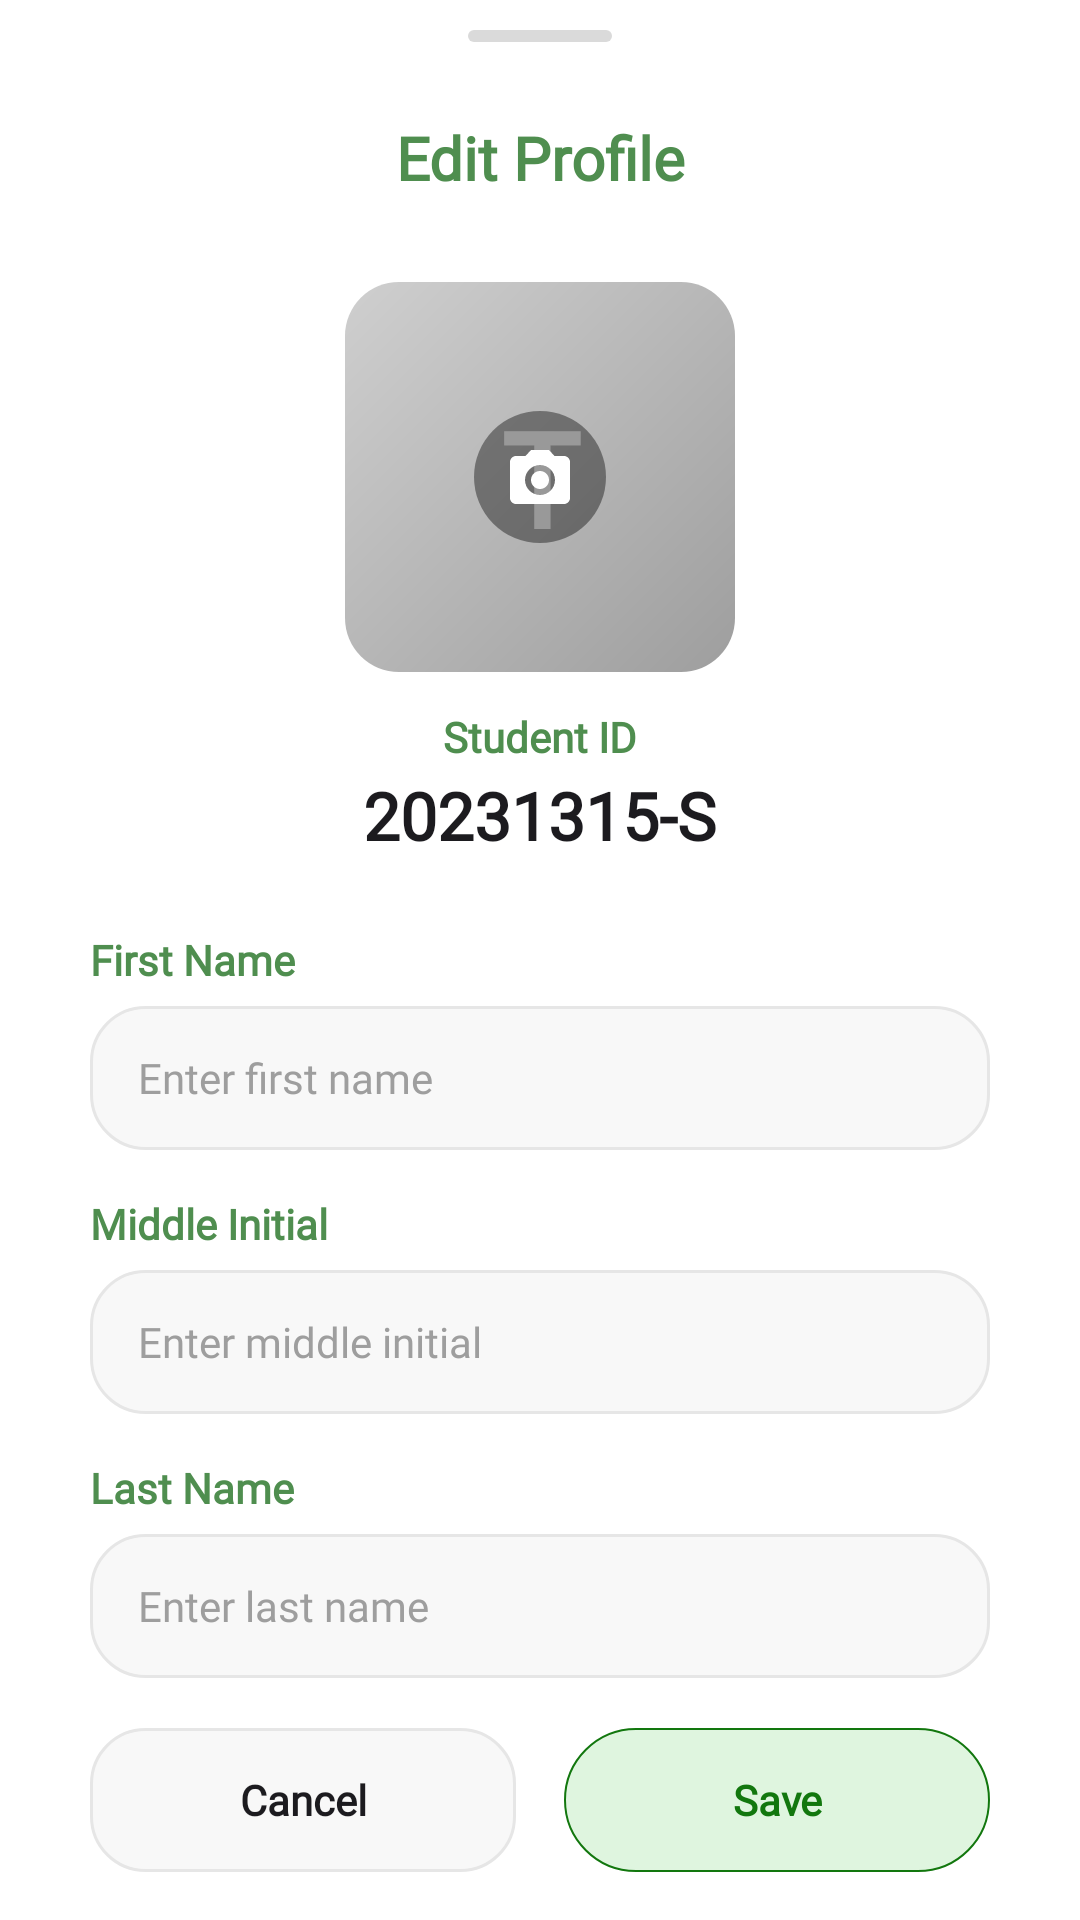

Named icons in this screenshot (1080x1920) and their centers, (x,y):
Change photo: (540,477)
